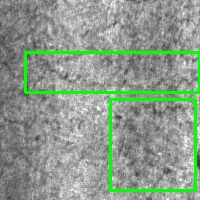crazing: (110, 99, 195, 190), (25, 52, 199, 92)
